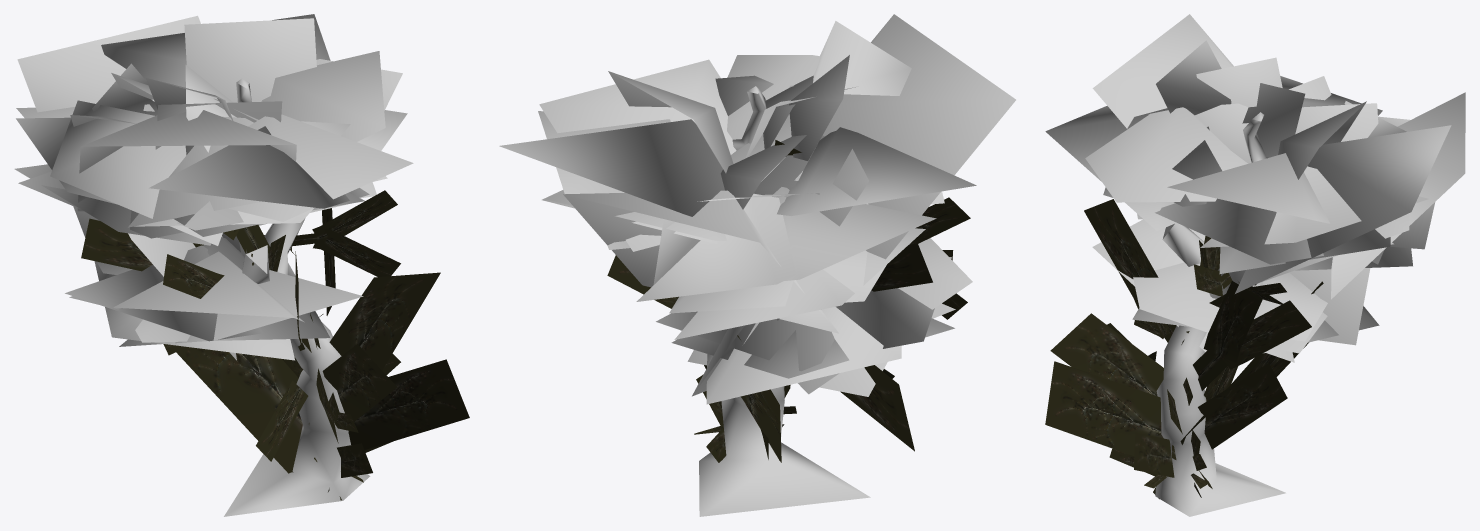
Rendered from Tree6Lod1.FBX.
3 views of the same model, side by side, from view 1: azimuth 30°, elevation 25°; view 2: azimuth 150°, elevation 25°; view 3: azimuth 270°, elevation 25° (orthographic). The views are drawn at different scales.
Parts seen in each view (by area): view 1: Tree6Lod1; view 2: Tree6Lod1; view 3: Tree6Lod1.
Boxes of the visible parts, x1,y1,x2,y2 form: Tree6Lod1: (14, 14, 469, 516); Tree6Lod1: (499, 14, 1015, 516); Tree6Lod1: (1045, 14, 1465, 516).
Bounding box in the file's own units: 263 × 275 × 272.
